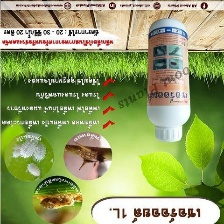insecticide: (143, 15, 194, 144)
